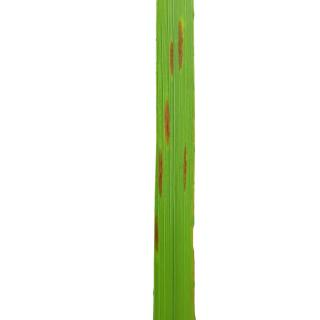Bercak-Cokelat-Sempit: (178, 144, 190, 196), (157, 148, 166, 202), (164, 38, 174, 79), (153, 212, 162, 252), (178, 17, 184, 75), (164, 93, 170, 147)
